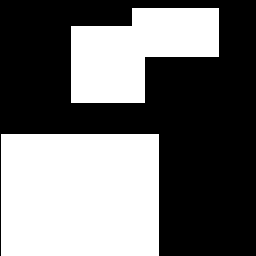rumex: (1, 134, 158, 256), (71, 26, 144, 102), (132, 8, 218, 56)
